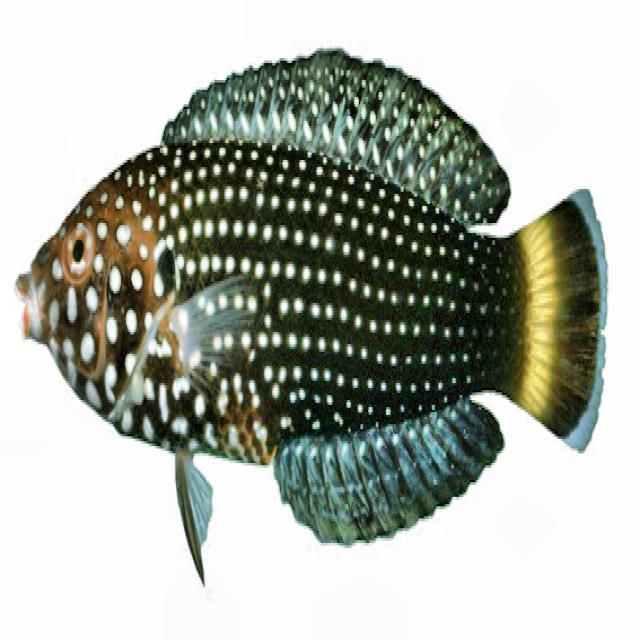fish: (13, 45, 611, 594)
